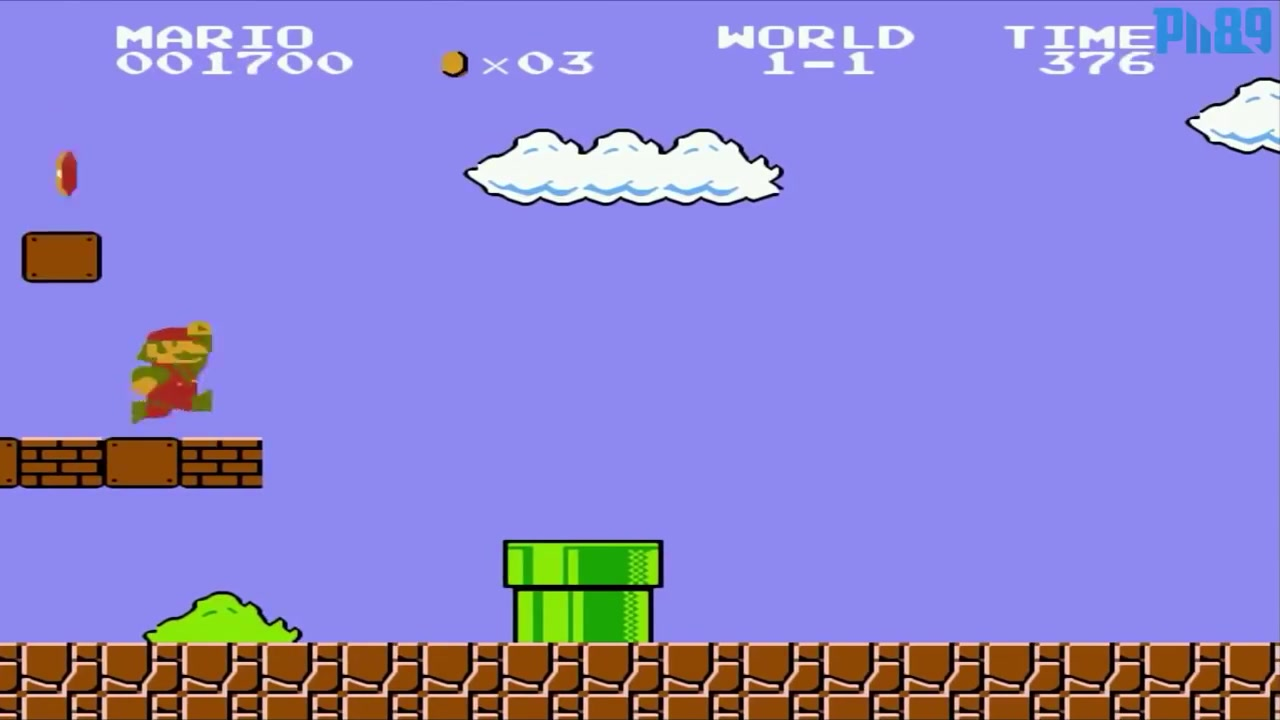mario: (122, 311, 221, 432)
